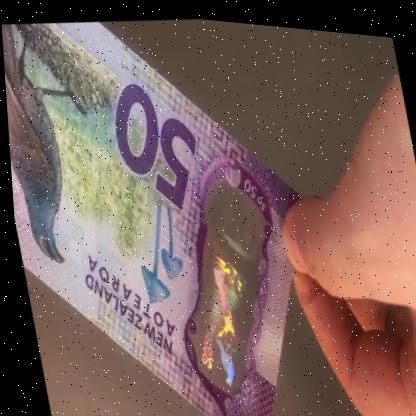50B: (165, 180, 284, 399)
